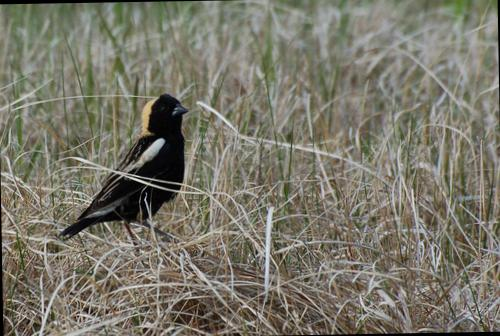bird: (48, 84, 194, 262)
